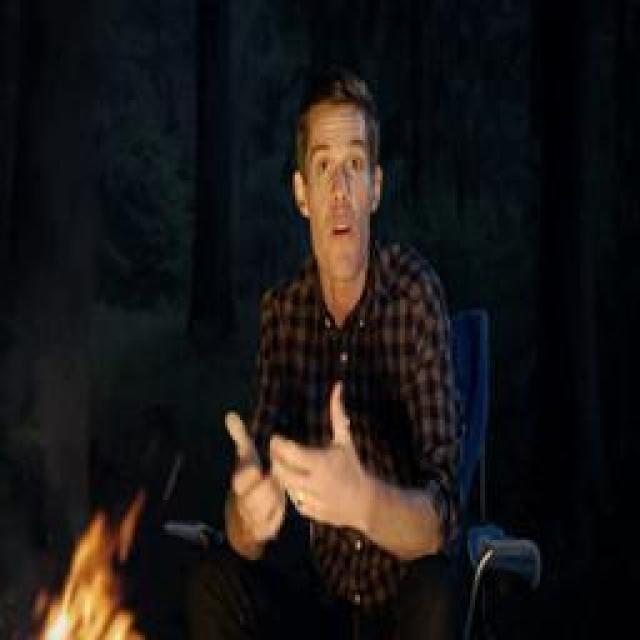Fire: (40, 497, 150, 640)
